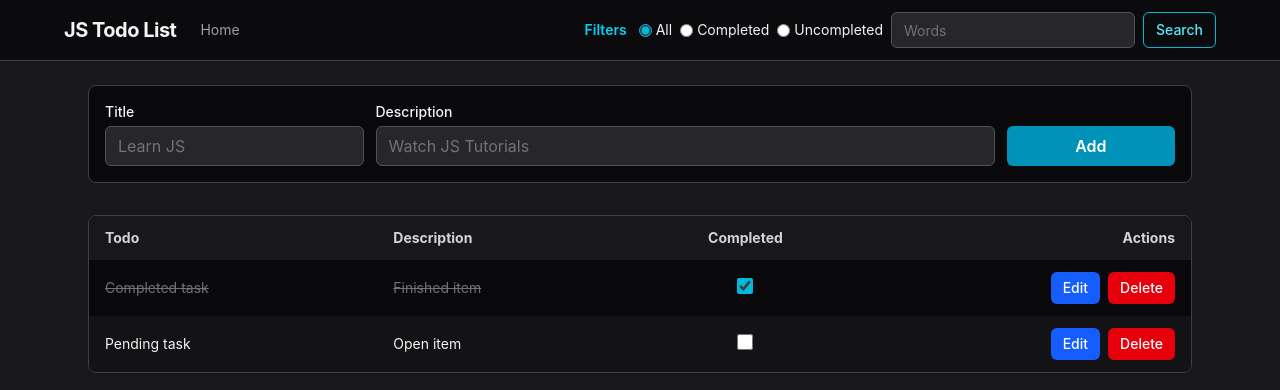
Test: US7 - Status Filters › shows only completed tasks when Completed filter is selected
This screenshot has width=1280, height=390.
Expected: the text "Completed task" is shown, left=89, top=260, right=377, bottom=316
Click the radio button labelled "Completed".
click(687, 30)  # box left=680, top=24, right=693, bottom=36
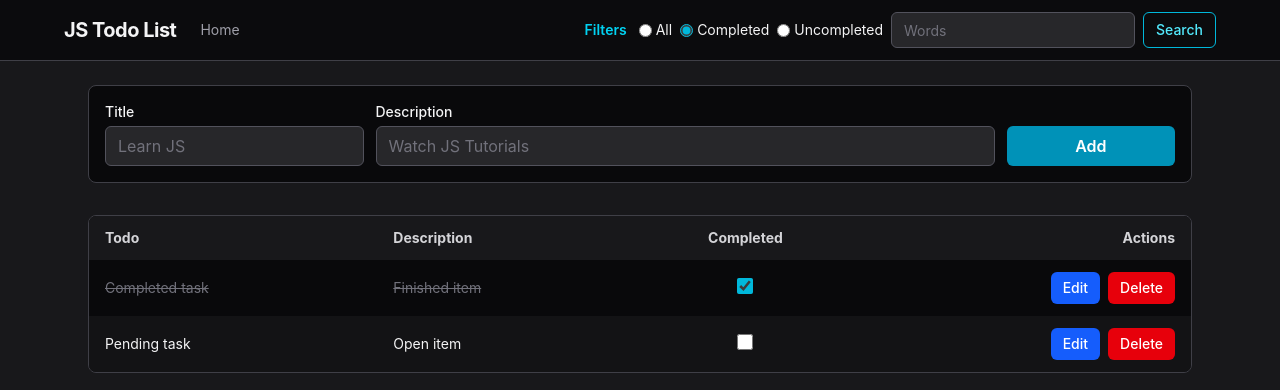
Click the button "Search".
click(1180, 30)  # box left=1143, top=12, right=1216, bottom=48
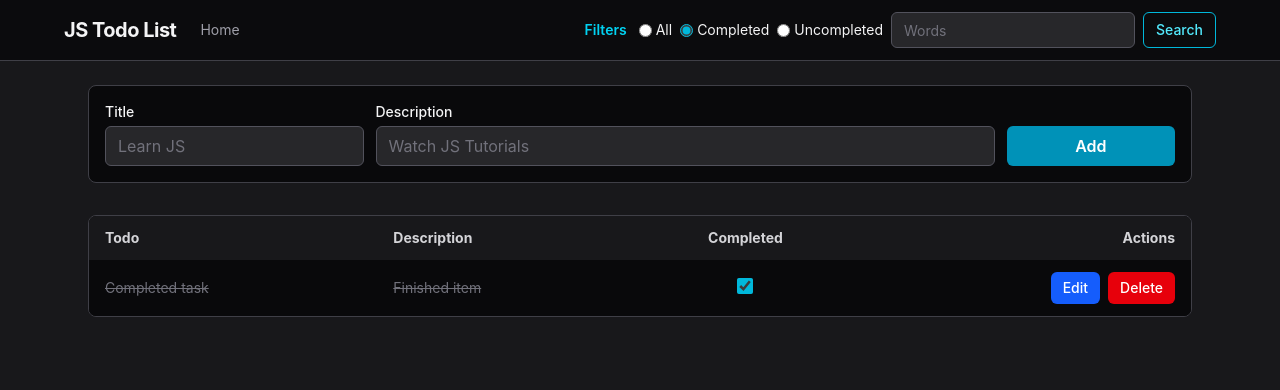
Expected: the text "Completed task" is shown, left=89, top=260, right=377, bottom=316
Now the text "Pending task" is gone
